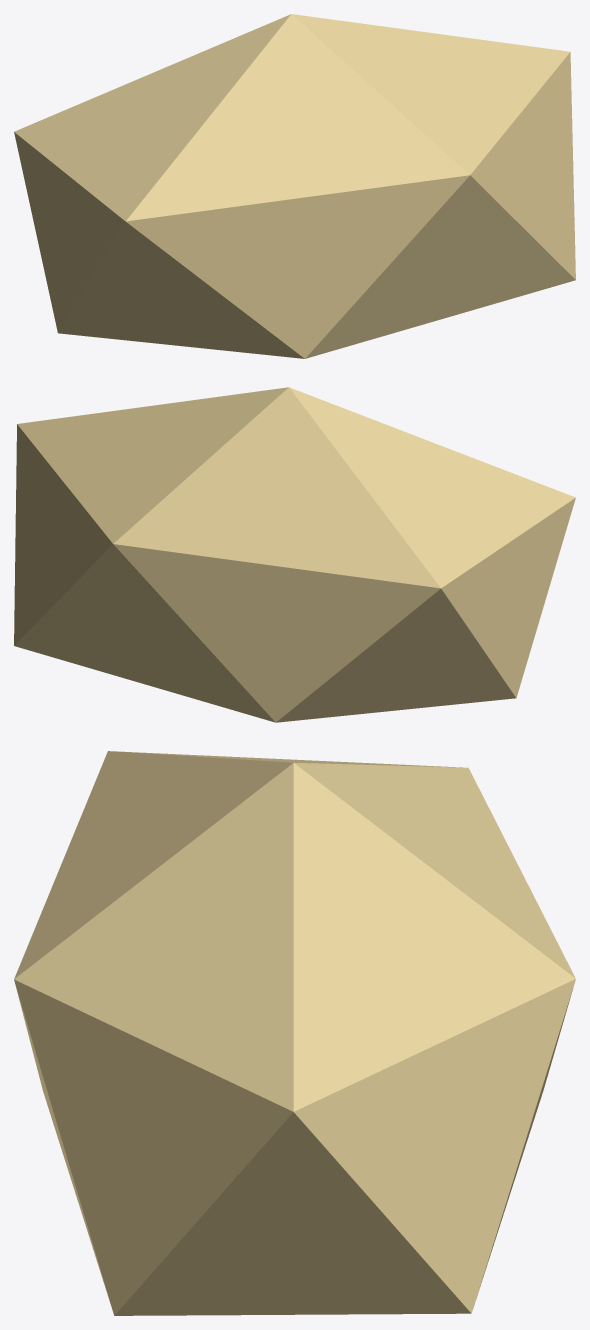
File: item_060_barley_seed_s.glb
The picture shows the model from 3 angles, top to bottom: view 1: azimuth 30°, elevation 25°; view 2: azimuth 150°, elevation 25°; view 3: azimuth 270°, elevation 25°; orthographic projection. The views are drawn at different scales.
Parts seen in each view (by area): view 1: item_060_barley_seed_s; view 2: item_060_barley_seed_s; view 3: item_060_barley_seed_s.
Part boxes in pixels (x1,y1,x2,y2): item_060_barley_seed_s: (14, 14, 575, 358); item_060_barley_seed_s: (14, 387, 575, 722); item_060_barley_seed_s: (14, 751, 575, 1315).
Bounding box in the file's own units: 0.3188 × 0.2035 × 0.2098.
